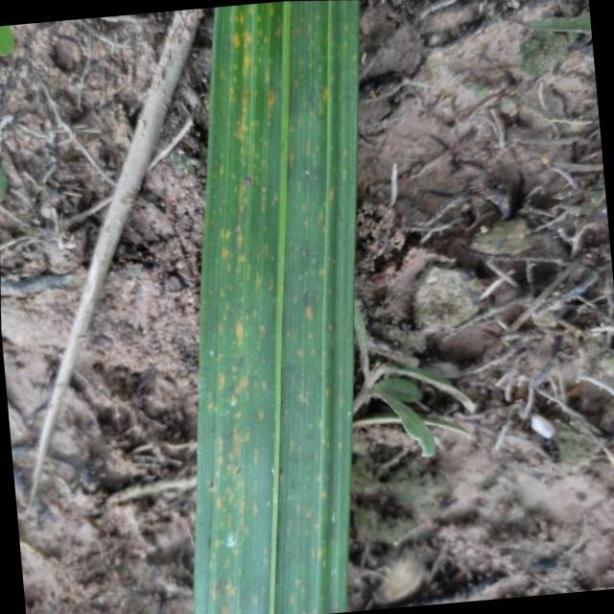Kalium: (193, 0, 360, 614)
